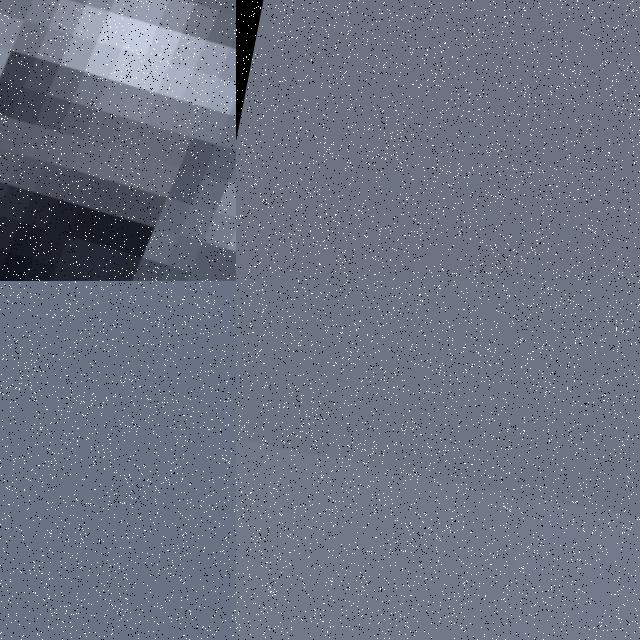drone: (0, 0, 236, 281)
